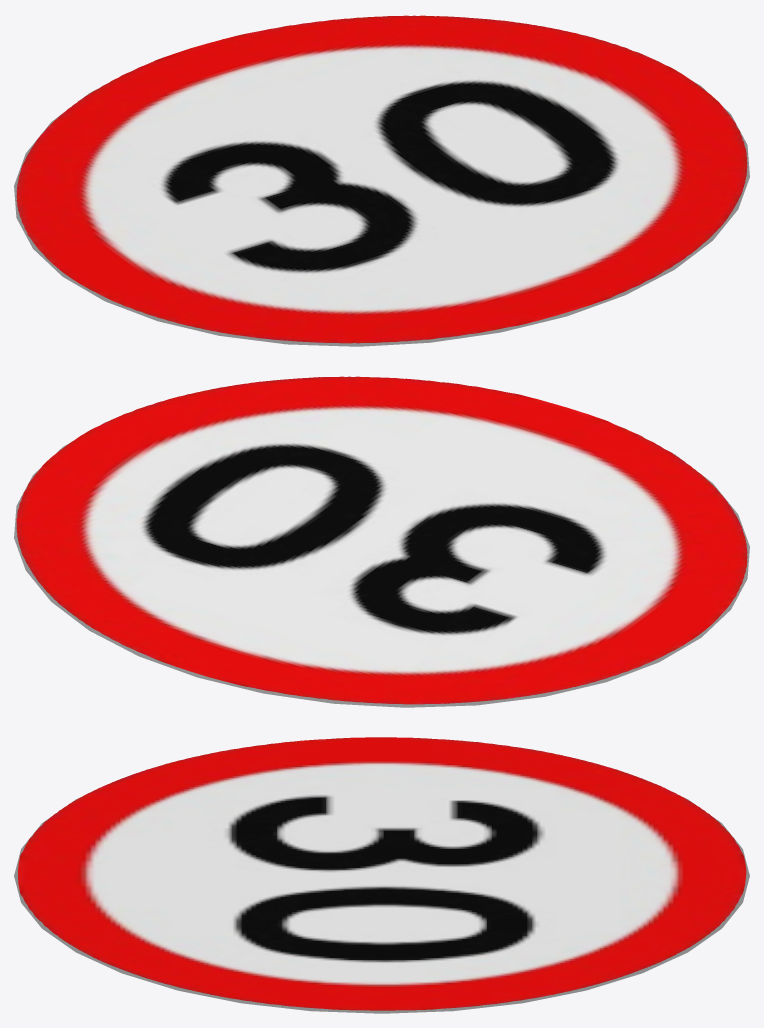
File: max_speed.dae
3 views of the same model, one above another, from view 1: azimuth 30°, elevation 25°; view 2: azimuth 150°, elevation 25°; view 3: azimuth 270°, elevation 25° (orthographic).
Parts seen in each view (by area): view 1: max_speed; view 2: max_speed; view 3: max_speed.
Part boxes in pixels (<box>): max_speed: <box>14,15,749,346</box>; max_speed: <box>14,376,749,707</box>; max_speed: <box>14,737,749,1013</box>.
Size of the model in its own units: 0.0699 by 0.07 by 0.00386.
2 materials, 1 textured.
